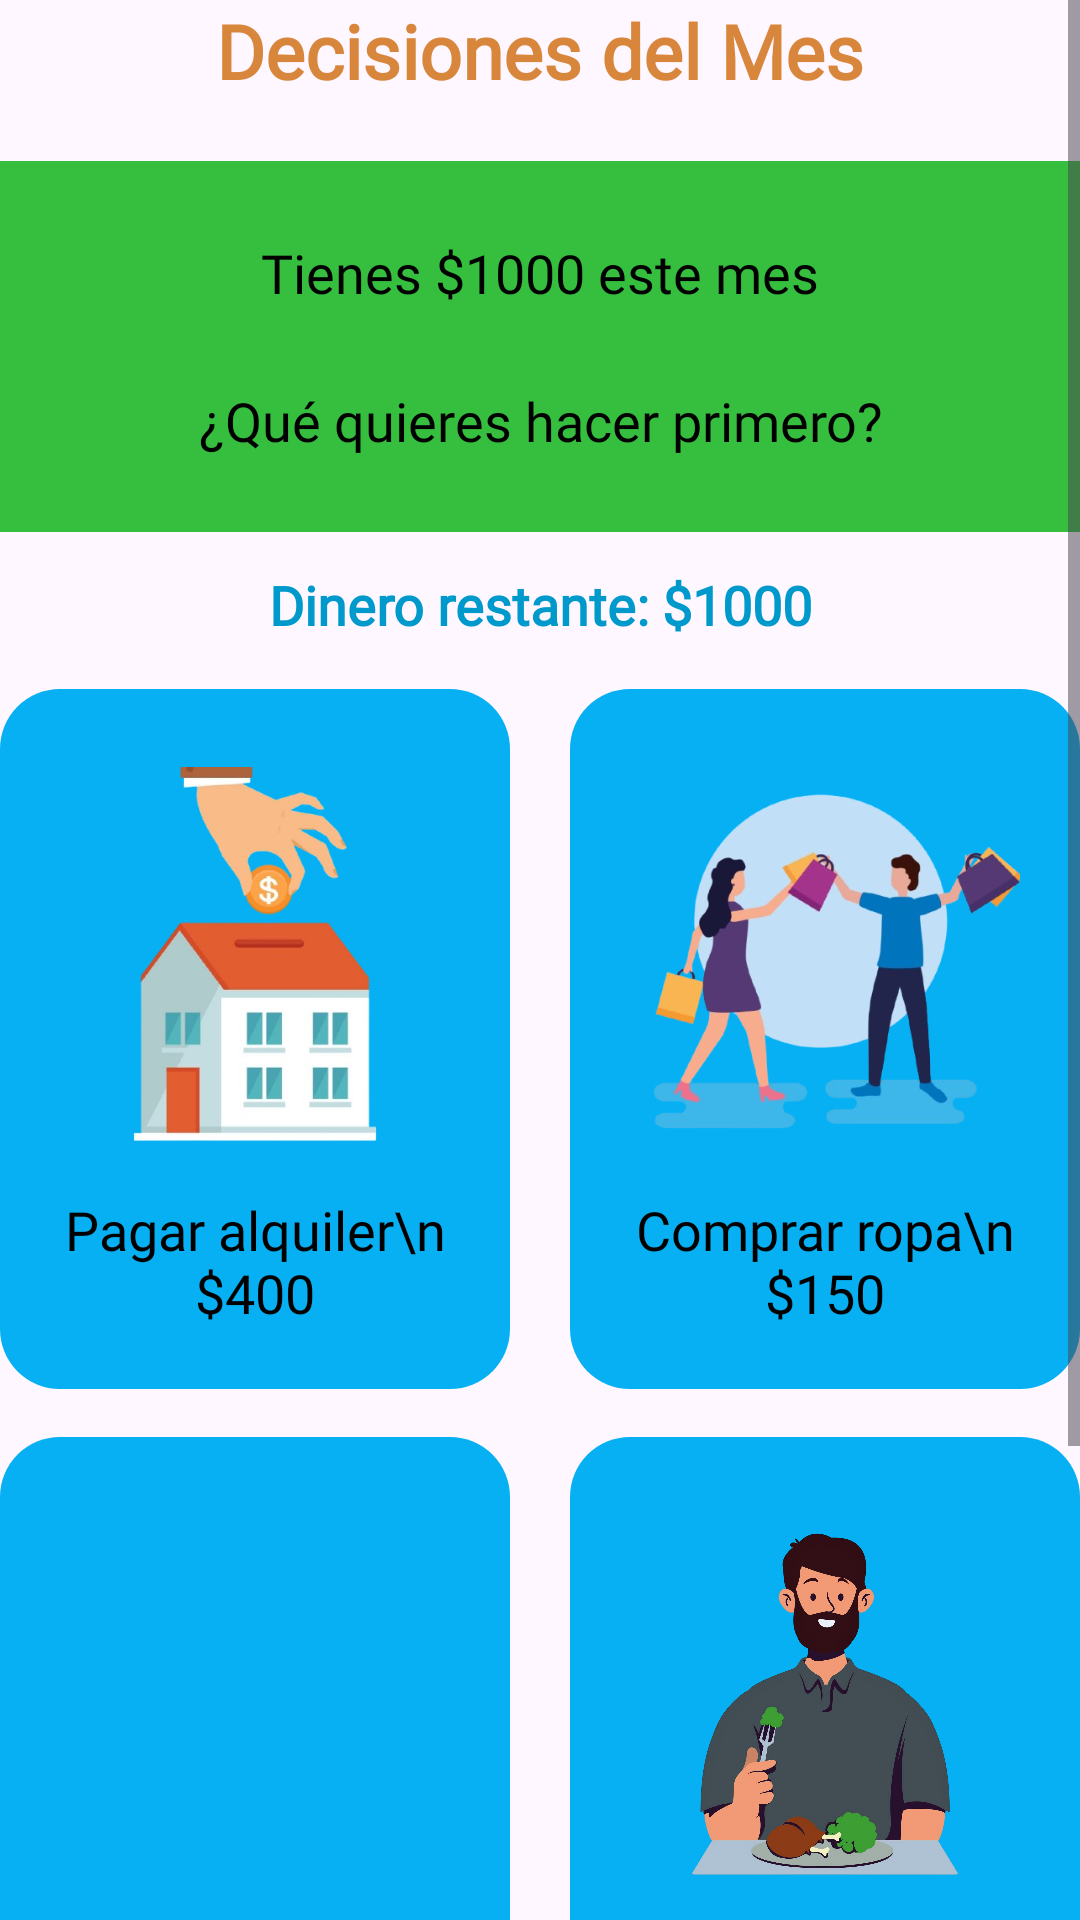

Icons on this 1080x1920 Android screen, each with its box as (x1, y1, x2, y2):
comer: (692, 1534, 958, 1875)
